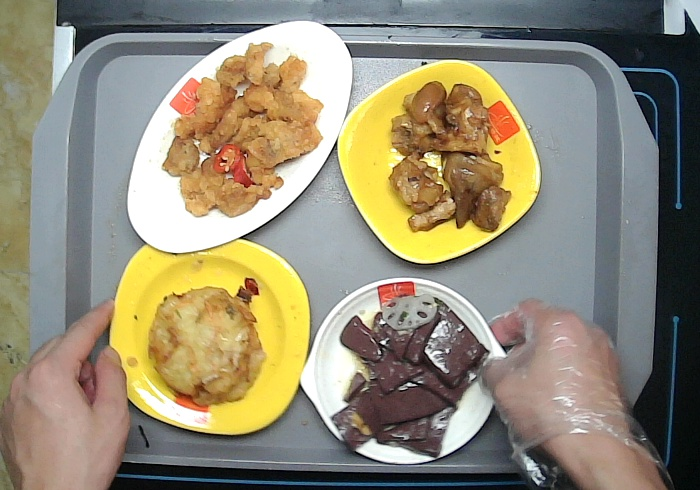SHKJ-Bao_Yu_Pan: (298, 273, 515, 468)
SHKJ-Huang_Se_Cai_Die: (333, 57, 547, 271)
SHKJ-Huang_Se_Si_Fang_Cai_Die: (101, 230, 315, 440)
SHKJ-Yu_Pan: (122, 18, 357, 255)
